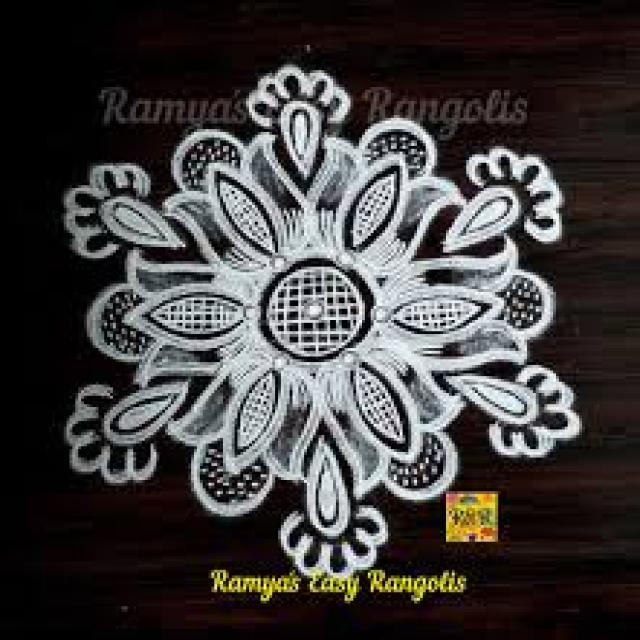rangoli: (55, 61, 589, 574)
